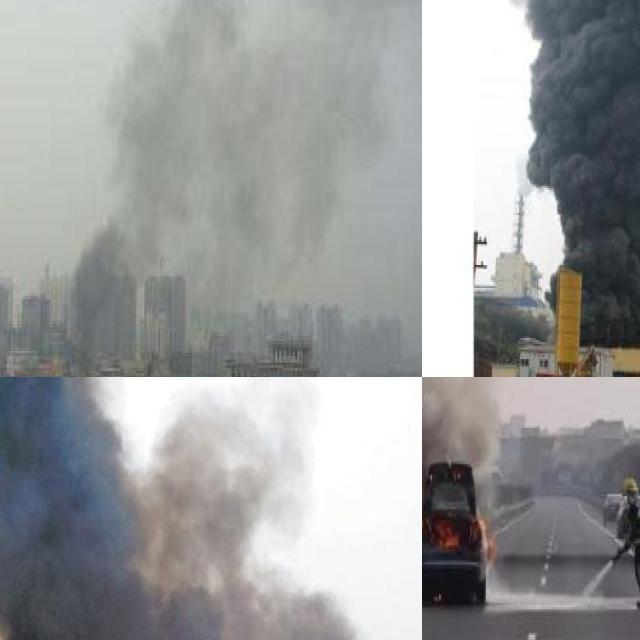fire: (422, 500, 494, 558)
smoke: (63, 0, 422, 369), (0, 377, 422, 640), (500, 0, 640, 349)
